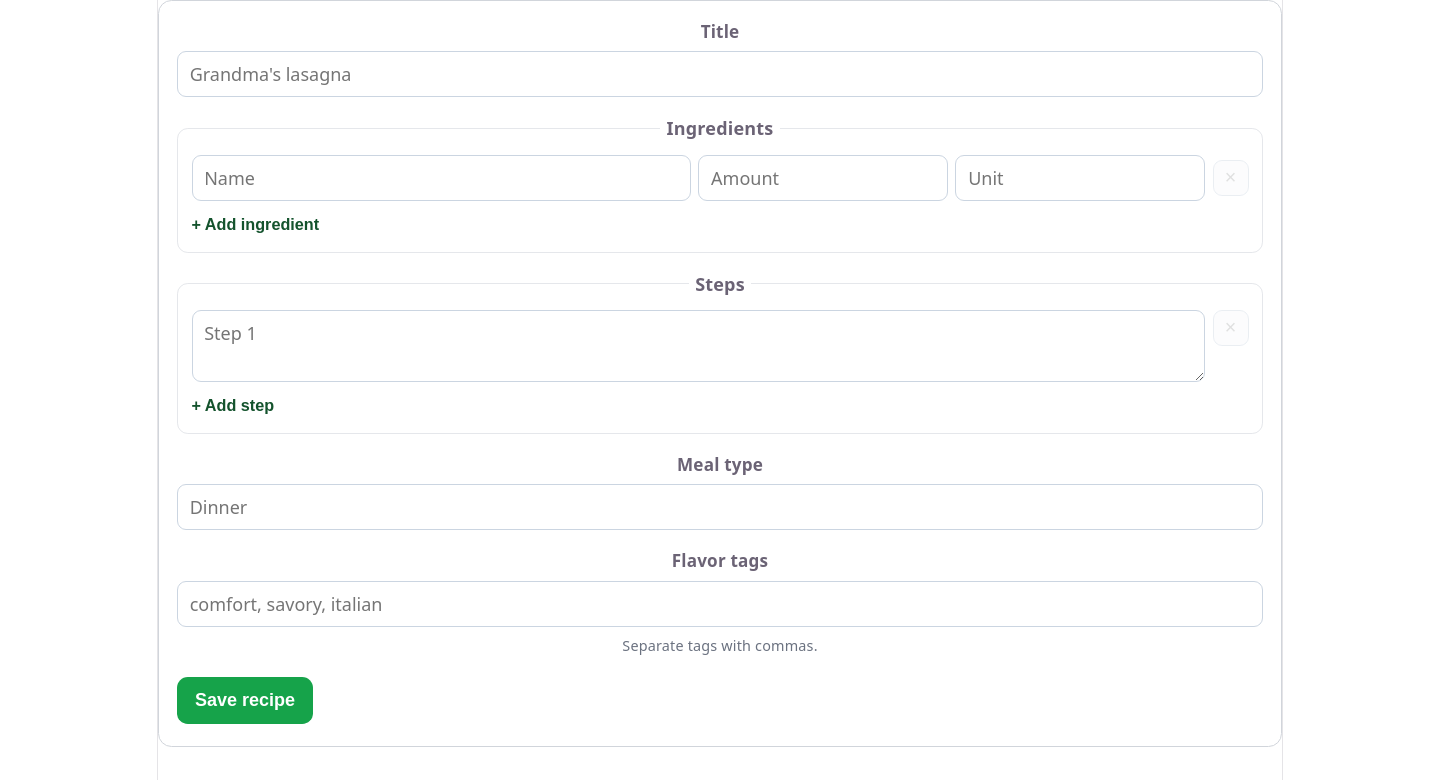
ManualRecipeForm › shows validation errors when required fields are empty
This screenshot has width=1440, height=780.
What coordinates should you click on to do the following:
click the button "Save recipe"
I would click on:
 (245, 700)
Its box is [177,677,313,724].
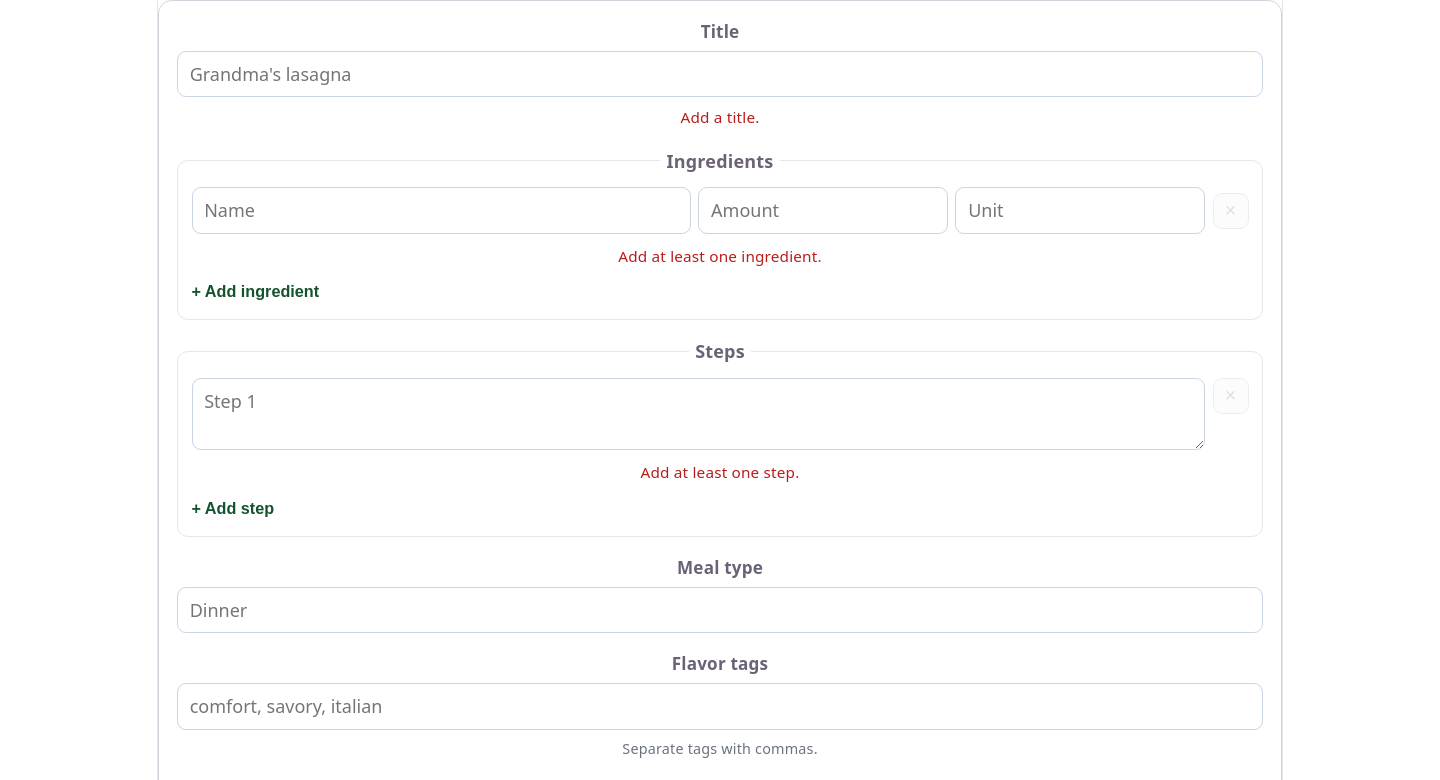
expect the text "Add a title." is shown: met, box [680,107,760,127]
expect the text "Add at least one ingredient." is shown: met, box [618,246,822,266]
expect the text "Add at least one step." is shown: met, box [640,462,799,482]
